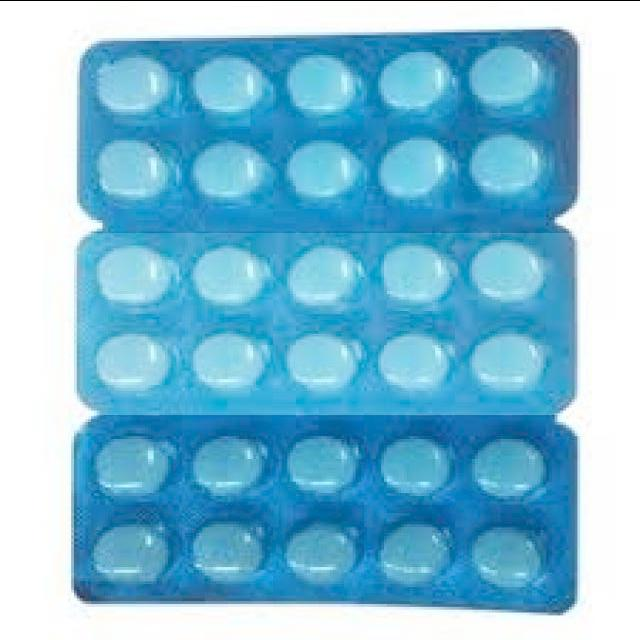authentic: (57, 408, 589, 624), (60, 22, 589, 232), (64, 223, 589, 414)
